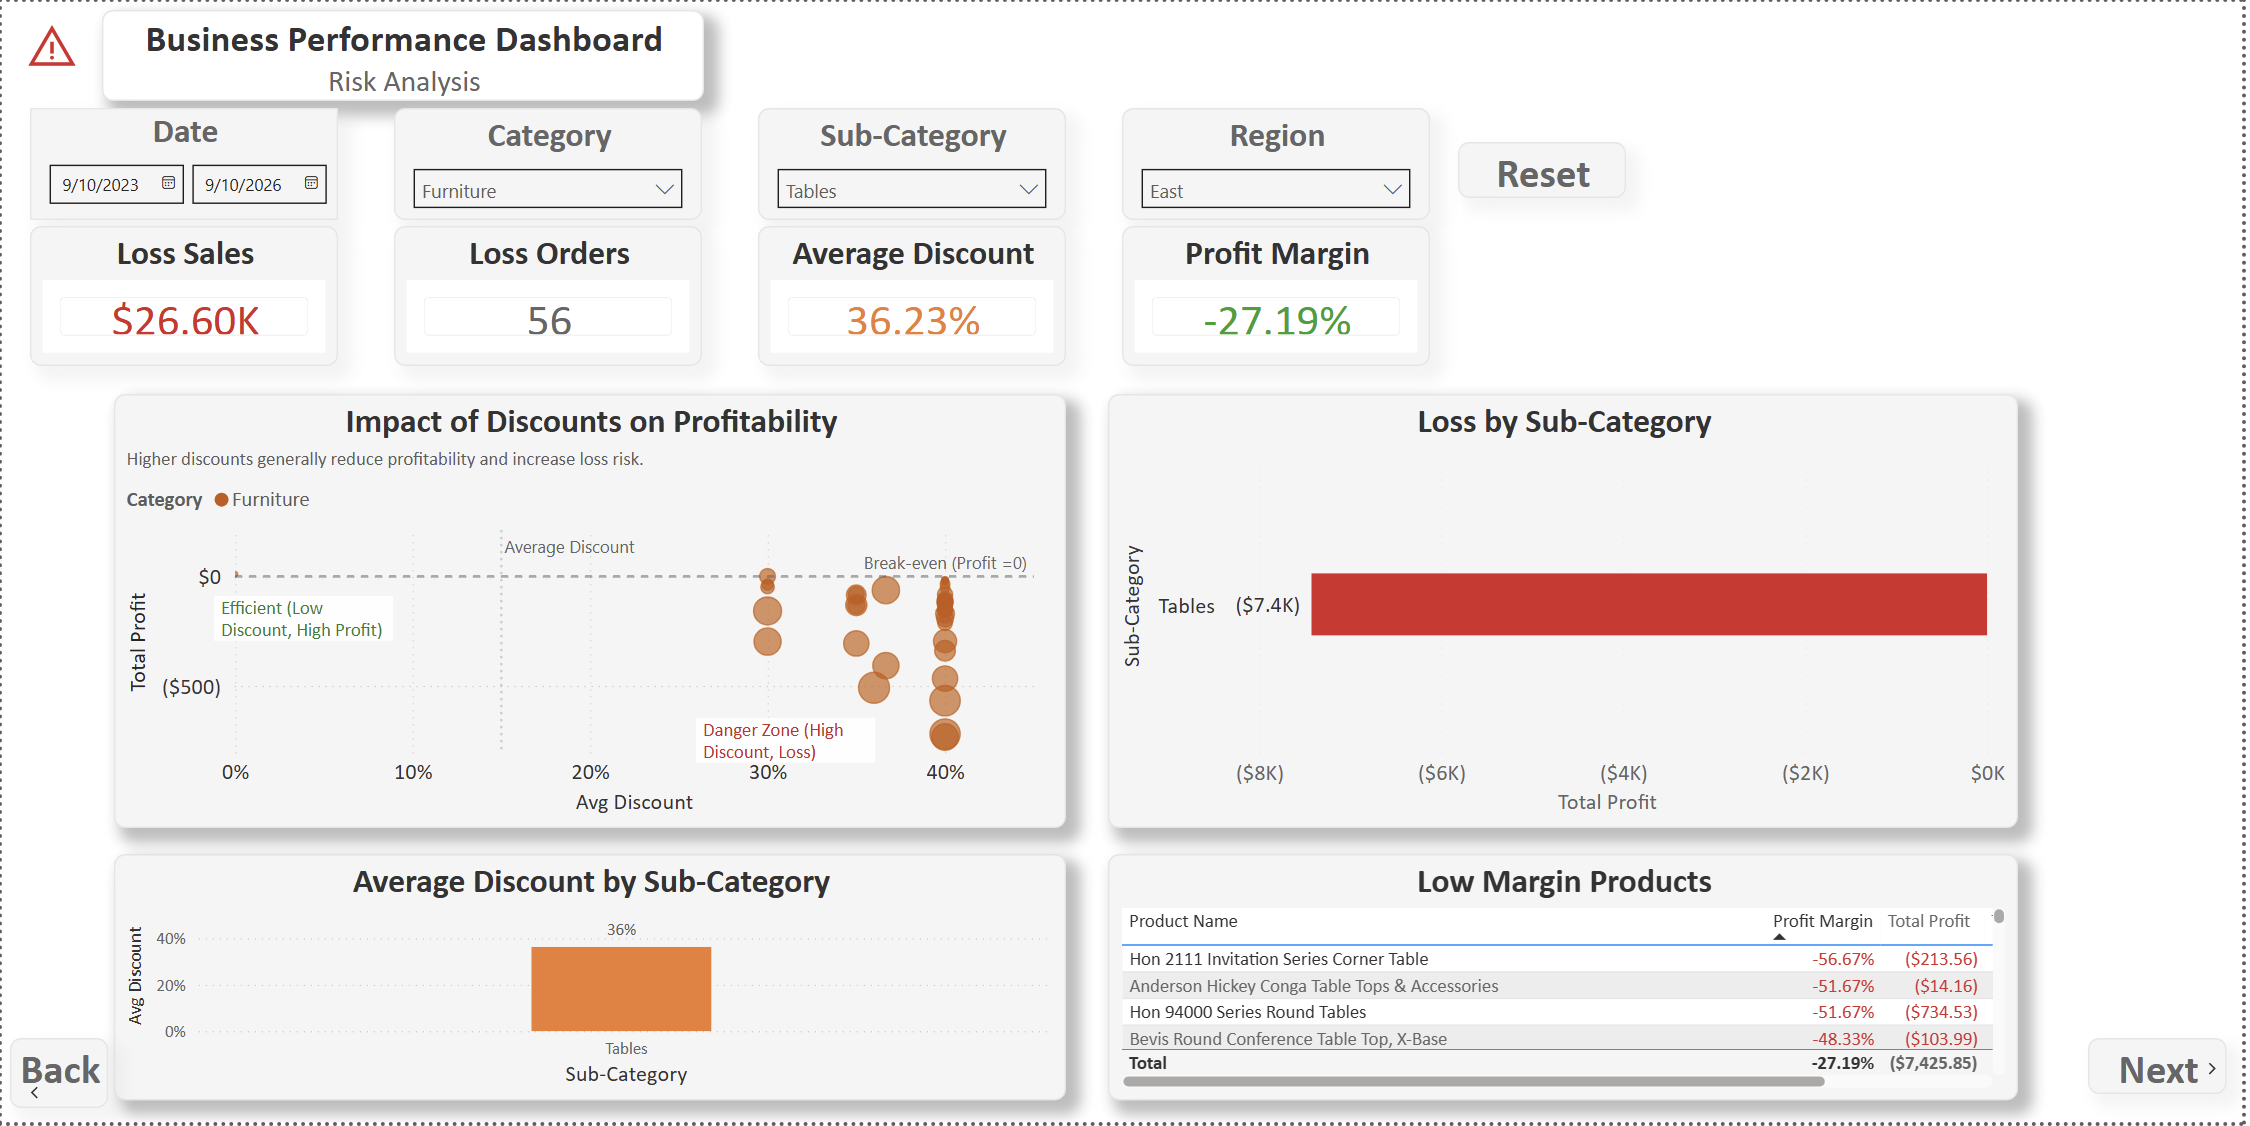

The page's visual inventory and layout, read from the dashboard file:
{"tool":"powerbi","page":{"name":"Risk & Efficiency Analysis","canvas":[1600,800],"ordinal":2},"visuals":[{"type":"clusteredBarChart","title":"Loss by Sub-Category","fields":{"Category":["samplesuperstore.Sub-Category"],"Y":["samplesuperstore.Total Profit"]},"box":[790,280,650,310],"z":0},{"type":"clusteredColumnChart","title":"Average Discount by Sub-Category","fields":{"Category":["samplesuperstore.Sub-Category"],"Y":["samplesuperstore.Avg Discount"]},"box":[80,608,680,176],"z":1000},{"type":"scatterChart","title":"Impact of Discounts on Profitability","fields":{"X":["samplesuperstore.Avg Discount"],"Size":["samplesuperstore.Total Sales"],"Y":["samplesuperstore.Total Profit"],"Series":["samplesuperstore.Category"],"Category":["samplesuperstore.Product Name"]},"box":[80,280,680,310],"z":2000},{"type":"textbox","title":"Business Performance Dashboard","box":[72,5,430,65],"z":3000},{"type":"slicer","title":"Date","fields":{"Values":["samplesuperstore.Order Date"]},"box":[20,75,220,80],"z":4000},{"type":"slicer","title":"Category","fields":{"Values":["samplesuperstore.Category"]},"box":[280,75,220,80],"z":5000},{"type":"slicer","title":"Sub-Category","fields":{"Values":["samplesuperstore.Sub-Category"]},"box":[540,75,220,80],"z":6000},{"type":"slicer","title":"Region","fields":{"Values":["samplesuperstore.Region"]},"box":[800,75,220,80],"z":7000},{"type":"actionButton","title":"Reset","box":[1040,100,120,40],"z":8000},{"type":"cardVisual","title":"Loss Sales","fields":{"Data":["samplesuperstore.Loss Sales"]},"box":[20,160,220,100],"z":9000},{"type":"cardVisual","title":"Loss Orders","fields":{"Data":["samplesuperstore.Loss Orders"]},"box":[280,160,220,100],"z":10000},{"type":"cardVisual","title":"Average Discount","fields":{"Data":["samplesuperstore.Avg Discount"]},"box":[540,160,220,100],"z":11000},{"type":"cardVisual","title":"Profit Margin","fields":{"Data":["samplesuperstore.Profit Margin"]},"box":[800,160,220,100],"z":12000},{"type":"textbox","title":"Efficient (Low Discount, High Profit)","box":[152,424,128,32],"z":13000},{"type":"textbox","title":"Danger Zone (High Discount, Loss)","box":[496,512,128,32],"z":16000},{"type":"tableEx","title":"Low Margin Products","fields":{"Values":["samplesuperstore.Product Name","samplesuperstore.Profit Margin","samplesuperstore.Total Profit","samplesuperstore.Total Sales","samplesuperstore.Avg Discount"]},"box":[790,608,650,176],"z":17000},{"type":"actionButton","title":"Next","box":[1490,740,99,40],"z":18000},{"type":"actionButton","title":"Back","box":[5,740,70,50],"z":19000},{"type":"image","box":[15,12,40,40],"z":20000},{"type":"image","box":[1570,753,18,18],"z":21000},{"type":"image","box":[14,770,18,18],"z":22000}]}

Visuals, with their boxes in screenshot pixels (x1, y1, x2, y2), scaled from the page's 1600x800 canvas onto the 2250x1126 screenshot:
"Loss by Sub-Category" clusteredBarChart: crop(1111, 394, 2025, 830)
"Average Discount by Sub-Category" clusteredColumnChart: crop(112, 856, 1069, 1103)
"Impact of Discounts on Profitability" scatterChart: crop(112, 394, 1069, 830)
"Business Performance Dashboard" textbox: crop(101, 7, 706, 99)
"Date" slicer: crop(28, 106, 338, 218)
"Category" slicer: crop(394, 106, 703, 218)
"Sub-Category" slicer: crop(759, 106, 1069, 218)
"Region" slicer: crop(1125, 106, 1434, 218)
"Reset" actionButton: crop(1462, 141, 1631, 197)
"Loss Sales" cardVisual: crop(28, 225, 338, 366)
"Loss Orders" cardVisual: crop(394, 225, 703, 366)
"Average Discount" cardVisual: crop(759, 225, 1069, 366)
"Profit Margin" cardVisual: crop(1125, 225, 1434, 366)
"Efficient (Low Discount, High Profit)" textbox: crop(214, 597, 394, 642)
"Danger Zone (High Discount, Loss)" textbox: crop(698, 721, 878, 766)
"Low Margin Products" tableEx: crop(1111, 856, 2025, 1103)
"Next" actionButton: crop(2095, 1042, 2235, 1098)
"Back" actionButton: crop(7, 1042, 105, 1112)
image: crop(21, 17, 77, 73)
image: crop(2208, 1060, 2233, 1085)
image: crop(20, 1084, 45, 1109)
